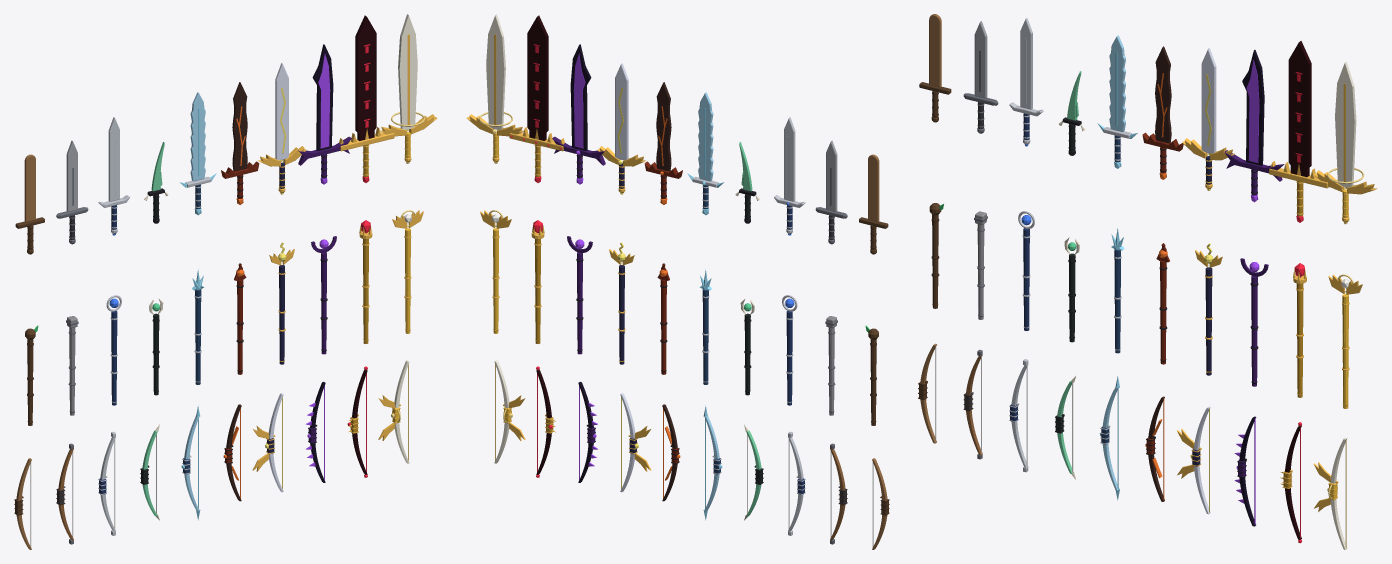
File: Weapons.glb
3 renders of one model, left to right at view 1: azimuth 30°, elevation 25°; view 2: azimuth 150°, elevation 25°; view 3: azimuth 330°, elevation 25°, orthographic. The views are drawn at different scales.
Visible parts, largest first — view 1: CrownOfRuin_Blade, AscendantBlade_Blade, Voidreaver_Blade, Stormcaller_Blade, Emberbrand_Blade, Frostbite_Blade, SteelLongsword_Blade, WoodenSword_Blade, IronBlade_Blade, AscendantBlade_Staff, AscendantBlade_Bow, Stormcaller_Bow (+18 smaller); view 2: CrownOfRuin_Blade, AscendantBlade_Blade, Voidreaver_Blade, Stormcaller_Blade, Emberbrand_Blade, Frostbite_Blade, SteelLongsword_Blade, WoodenSword_Blade, IronBlade_Blade, AscendantBlade_Staff, AscendantBlade_Bow, Stormcaller_Bow (+18 smaller); view 3: CrownOfRuin_Blade, AscendantBlade_Blade, Voidreaver_Blade, Stormcaller_Blade, Emberbrand_Blade, Frostbite_Blade, SteelLongsword_Blade, IronBlade_Blade, WoodenSword_Blade, AscendantBlade_Staff, AscendantBlade_Bow, Stormcaller_Bow (+18 smaller).
Boxes of the visible parts, bbox=[...] form: CrownOfRuin_Blade: bbox=[339, 15, 394, 182]; AscendantBlade_Blade: bbox=[380, 14, 437, 163]; Voidreaver_Blade: bbox=[298, 44, 351, 184]; Stormcaller_Blade: bbox=[258, 63, 306, 194]; Emberbrand_Blade: bbox=[221, 82, 259, 204]; Frostbite_Blade: bbox=[180, 92, 216, 215]; SteelLongsword_Blade: bbox=[98, 117, 129, 235]; WoodenSword_Blade: bbox=[15, 154, 44, 254]; IronBlade_Blade: bbox=[56, 140, 88, 244]; AscendantBlade_Staff: bbox=[392, 210, 423, 333]; AscendantBlade_Bow: bbox=[378, 360, 409, 463]; Stormcaller_Bow: bbox=[252, 393, 283, 492]; CrownOfRuin_Blade: bbox=[509, 15, 564, 182]; AscendantBlade_Blade: bbox=[466, 14, 523, 163]; Voidreaver_Blade: bbox=[552, 44, 605, 184]; Stormcaller_Blade: bbox=[597, 63, 645, 194]; Emberbrand_Blade: bbox=[644, 82, 682, 204]; Frostbite_Blade: bbox=[687, 92, 723, 215]; SteelLongsword_Blade: bbox=[774, 117, 805, 235]; WoodenSword_Blade: bbox=[859, 154, 888, 254]; IronBlade_Blade: bbox=[815, 140, 847, 244]; AscendantBlade_Staff: bbox=[480, 210, 511, 333]; AscendantBlade_Bow: bbox=[494, 360, 525, 463]; Stormcaller_Bow: bbox=[620, 393, 651, 492]; CrownOfRuin_Blade: bbox=[1269, 41, 1328, 222]; AscendantBlade_Blade: bbox=[1313, 61, 1377, 224]; Voidreaver_Blade: bbox=[1224, 50, 1284, 202]; Stormcaller_Blade: bbox=[1182, 48, 1234, 190]; Emberbrand_Blade: bbox=[1142, 46, 1183, 179]; Frostbite_Blade: bbox=[1097, 35, 1137, 168]; SteelLongsword_Blade: bbox=[1009, 18, 1043, 146]; IronBlade_Blade: bbox=[963, 21, 998, 133]; WoodenSword_Blade: bbox=[919, 14, 951, 122]; AscendantBlade_Staff: bbox=[1328, 274, 1362, 408]; AscendantBlade_Bow: bbox=[1313, 437, 1347, 549]; Stormcaller_Bow: bbox=[1177, 406, 1210, 514].
Bounding box in the file's own units: 20.06 × 21.13 × 1.42.
1 material, 1 textured.
